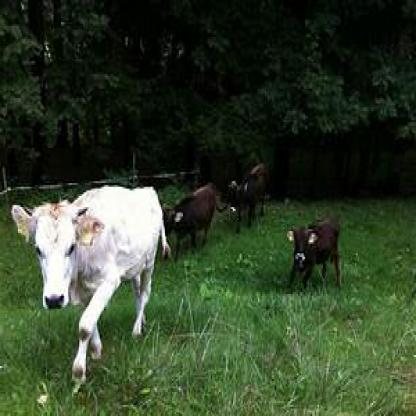cow: (13, 177, 166, 392), (160, 176, 224, 264), (266, 222, 341, 294)
